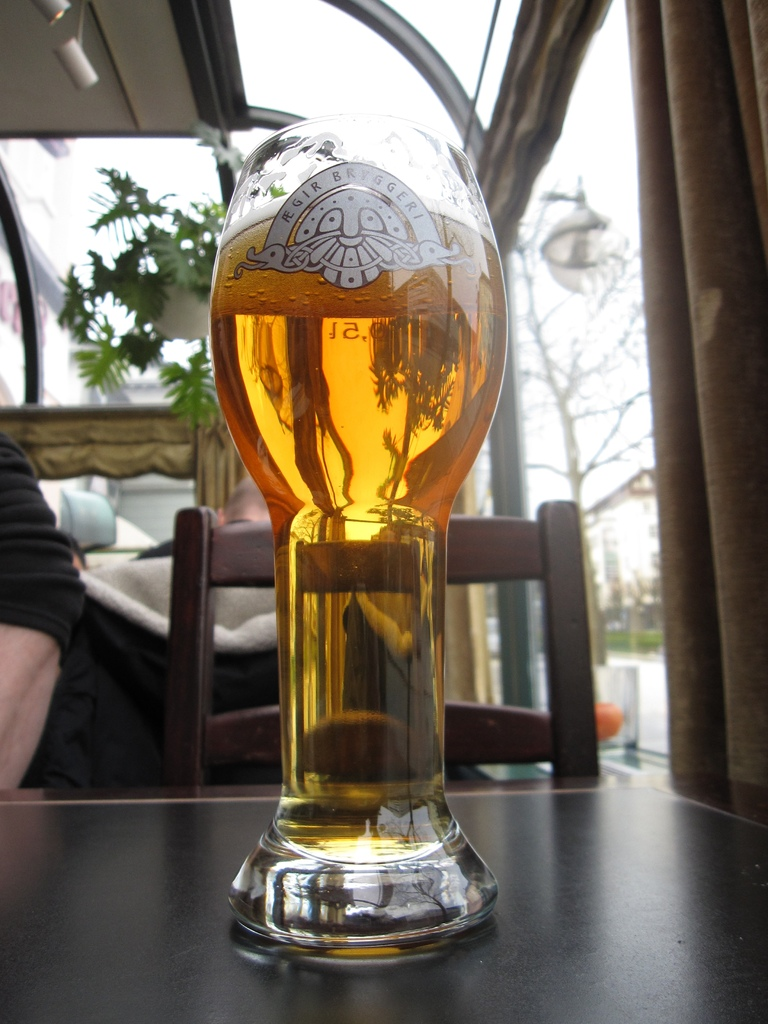Beer: (209, 204, 512, 858)
